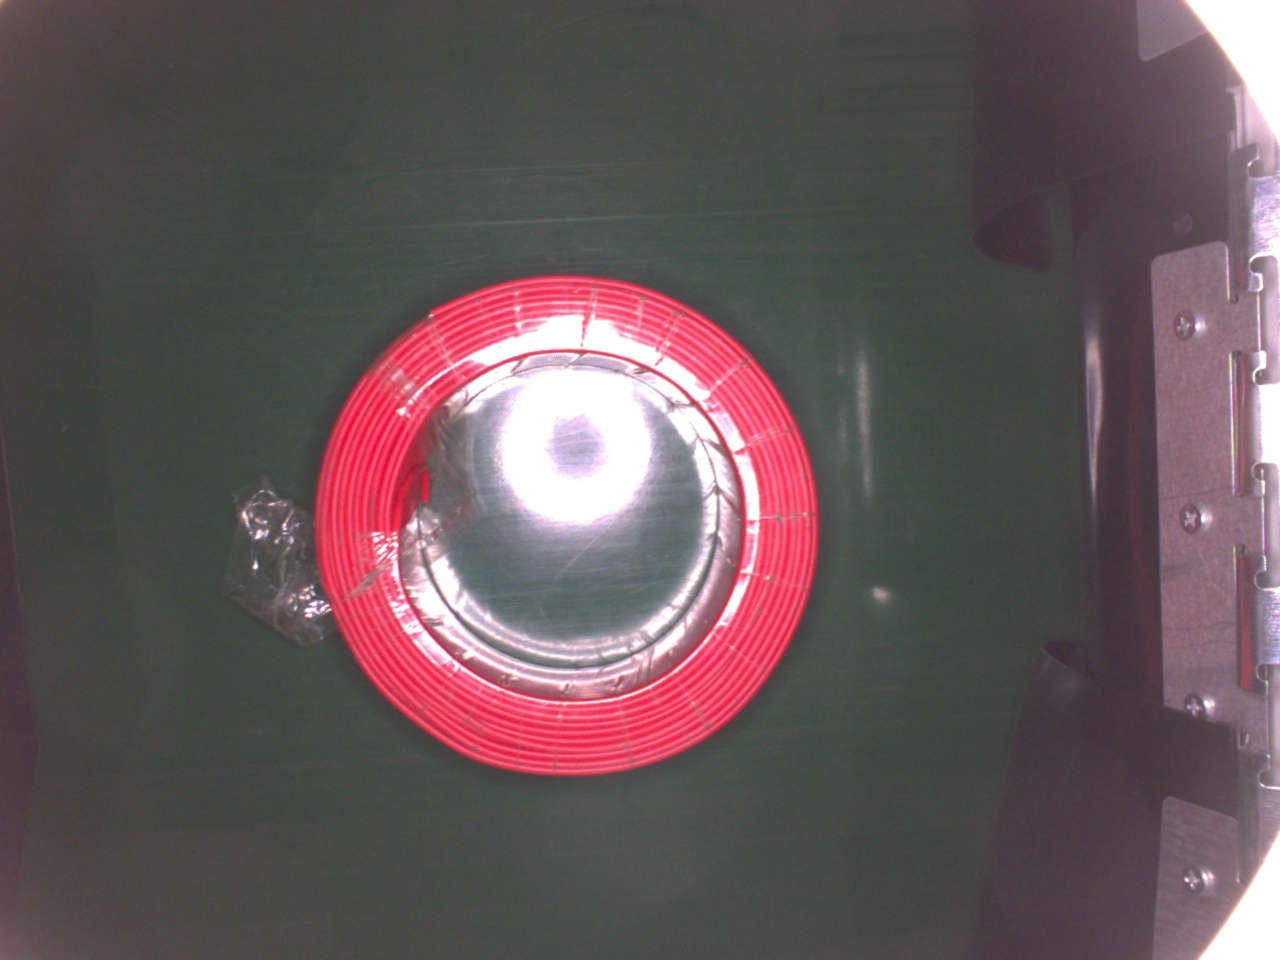red: (318, 273, 821, 785)
